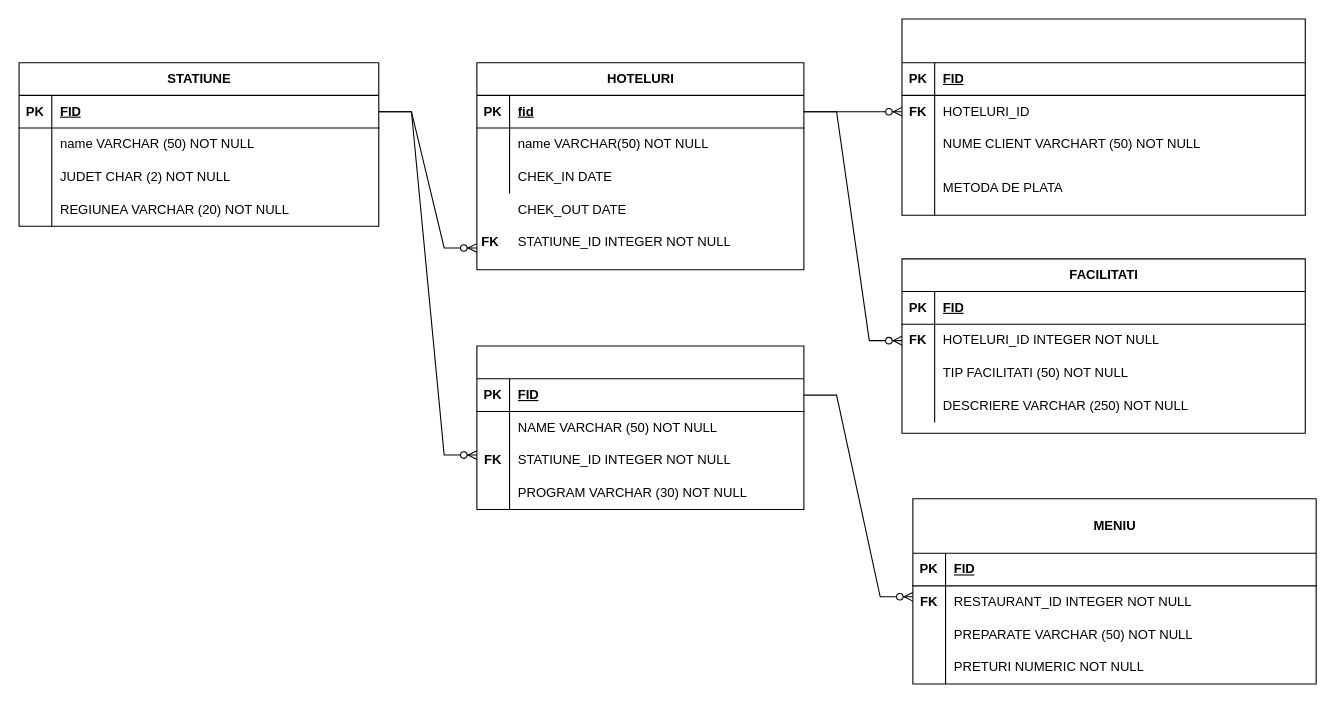
This 1335x703 diagram has some shape labels left out. The box of each missing label's shape, as (x1, y1, x2, y2) in pixels:
RESTAURANT: (476, 345, 804, 510)
REZERVARI: (901, 18, 1305, 215)
